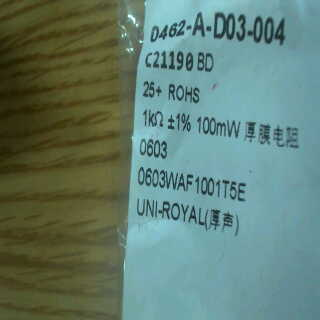1kR: (141, 106, 165, 129)
